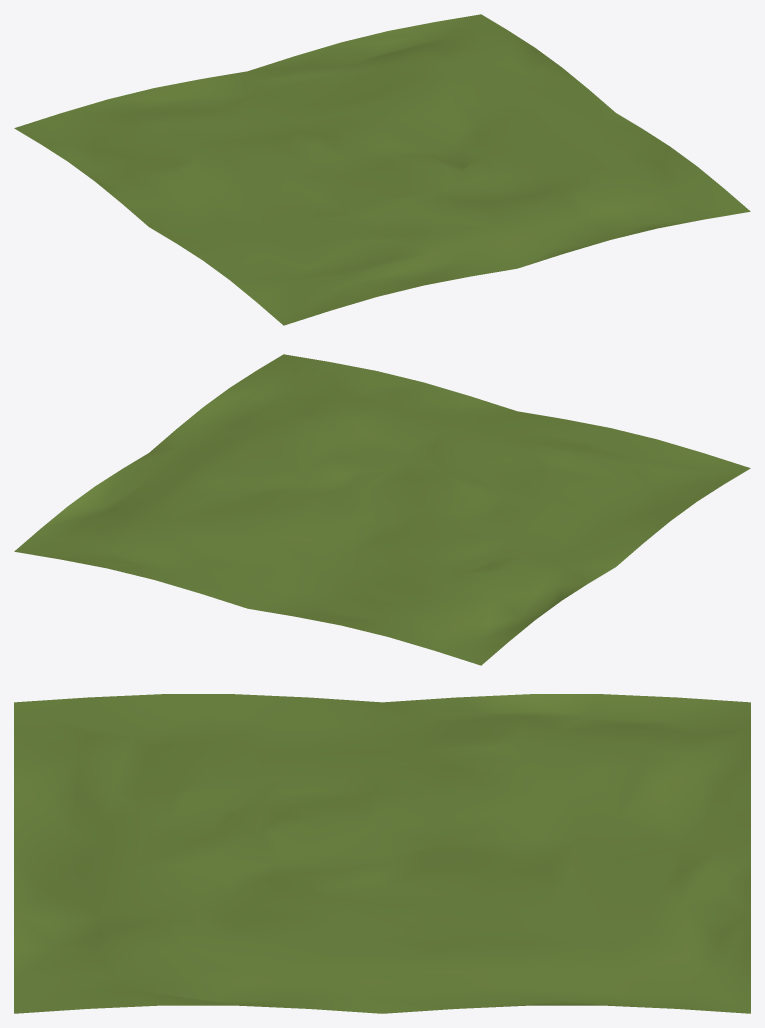
File: rpgpp_ag_terrain_grass_01a_20x20m.fbx
The picture shows the model from 3 angles, top to bottom: view 1: azimuth 30°, elevation 25°; view 2: azimuth 150°, elevation 25°; view 3: azimuth 270°, elevation 25°; orthographic projection. The views are drawn at different scales.
Parts seen in each view (by area): view 1: rpgpp_ag_terrain_grass_01a_20x20m; view 2: rpgpp_ag_terrain_grass_01a_20x20m; view 3: rpgpp_ag_terrain_grass_01a_20x20m.
Boxes of the visible parts, box(x1,y1,x2,y2) form: rpgpp_ag_terrain_grass_01a_20x20m: box(14, 14, 750, 325); rpgpp_ag_terrain_grass_01a_20x20m: box(14, 354, 750, 665); rpgpp_ag_terrain_grass_01a_20x20m: box(14, 694, 750, 1013).
Size of the model in its own units: 20 by 0.4289 by 20.
